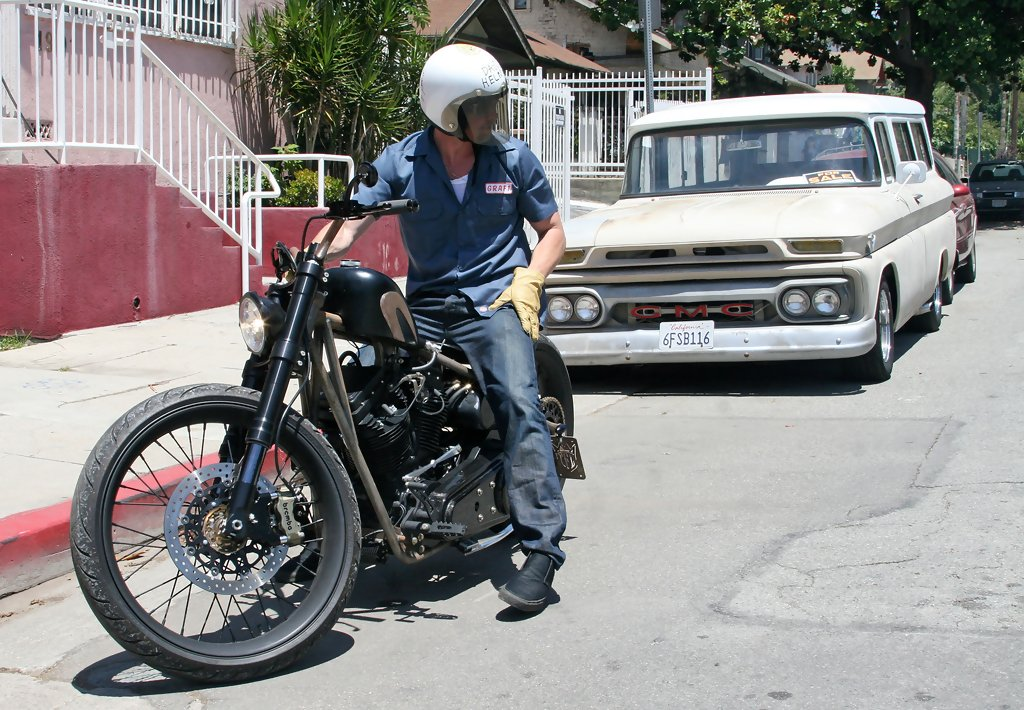with_helmet: (411, 42, 511, 140)
